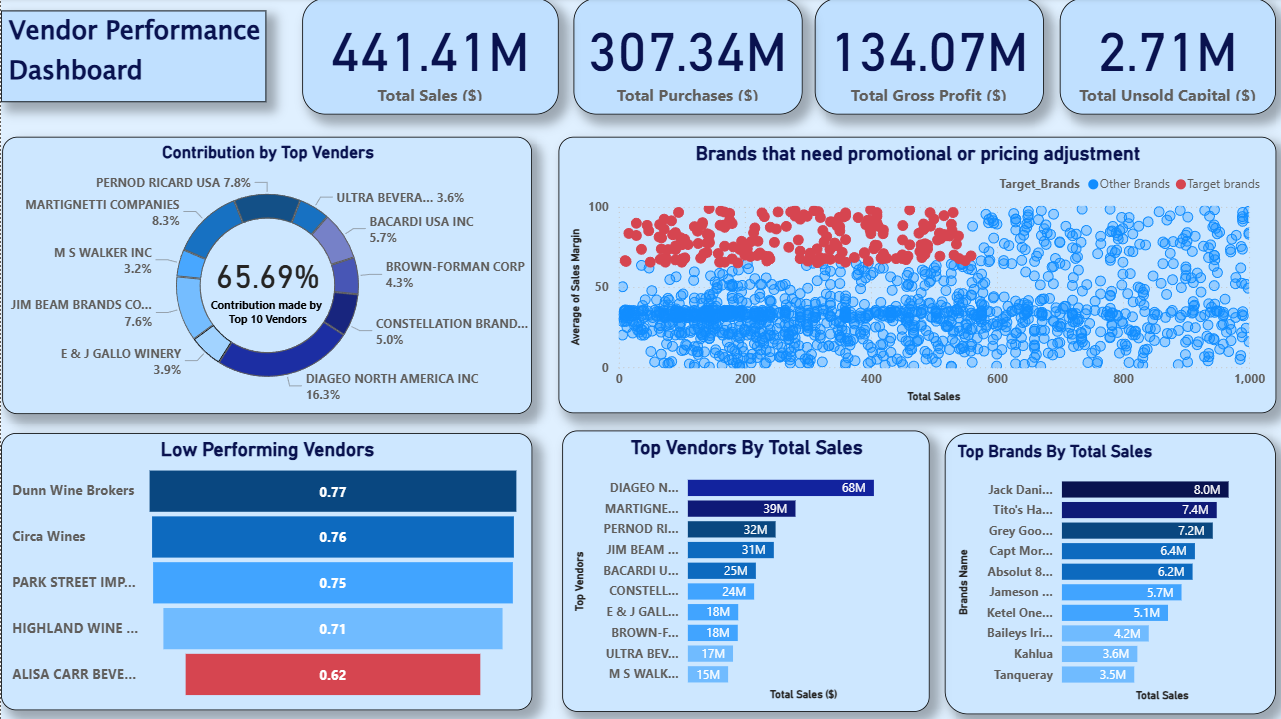

The dashboard page shown, as its layout file describes it:
{"tool":"powerbi","page":{"name":"Page 1","canvas":[1280,720],"ordinal":0},"visuals":[{"type":"scatterChart","title":"Brands that need promotional or pricing adjustment","fields":{"Y":["Sum(brandperformance.Average_Sales_Margin)"],"X":["Sum(brandperformance.Total_Sales)"],"Category":["brandperformance.description"],"Series":["brandperformance.target_brands"]},"box":[554.8,138.1,714,274.9],"z":0},{"type":"barChart","title":"Top Vendors By Total Sales","fields":{"Category":["top_vendros.vendor_name"],"Y":["Sum(top_vendros.Total_Sales_Dollars)"]},"box":[558.5,430.4,365.7,279.9],"z":1000},{"type":"barChart","title":"Top Brands By Total Sales","fields":{"Category":["top_products.description"],"Y":["Sum(top_products.Top_Brands)"]},"box":[939.2,432.9,329.6,279.9],"z":2000},{"type":"funnel","title":"Low Performing Vendors","fields":{"Y":["Sum(low_turnover.Average_Stock_Turnover)"],"Category":["low_turnover.vendor_name"]},"box":[0,432.9,528.7,276.2],"z":3000},{"type":"donutChart","title":"Contribution by  Top Venders","fields":{"Series":["contribution.vendor_name"],"Y":["Sum(contribution.contribution%)"]},"box":[1.2,138.1,527.4,276.2],"z":4000},{"type":"card","fields":{"Values":["Sum(vendor_summary.gross_profit)"]},"box":[809.8,0,227.6,115.7],"z":5000},{"type":"card","title":"Total Contribution by top ","fields":{"Values":["contribution.Top10_Contribution_Total"]},"box":[191.6,191.6,148,179.1],"z":6000},{"type":"card","fields":{"Values":["Sum(vendor_summary.total_purchase_dollars)"]},"box":[569.7,0,227.6,115.7],"z":7000},{"type":"card","fields":{"Values":["Sum(vendor_summary.total_sales_dollars)"]},"box":[299.8,0,255,115.7],"z":8000},{"type":"card","fields":{"Values":["Sum(vendor_summary.unsold_quantity_value)"]},"box":[1053.6,0,215.2,115.7],"z":9000},{"type":"textbox","title":"Vendor Performance Dashboard","box":[0,12.4,263.7,90.8],"z":9502}]}

Visuals, with their boxes in screenshot pixels (x1, y1, x2, y2), scaled from the page's 1280x720 canvas onto the 1281x719 screenshot:
"Brands that need promotional or pricing adjustment" scatterChart: 555/138/1270/412
"Top Vendors By Total Sales" barChart: 559/430/925/709
"Top Brands By Total Sales" barChart: 940/432/1270/712
"Low Performing Vendors" funnel: 0/432/529/708
"Contribution by  Top Venders" donutChart: 1/138/529/414
card - Sum(vendor_summary.gross_profit): 810/0/1038/116
"Total Contribution by top " card: 192/191/340/370
card - Sum(vendor_summary.total_purchase_dollars): 570/0/798/116
card - Sum(vendor_summary.total_sales_dollars): 300/0/555/116
card - Sum(vendor_summary.unsold_quantity_value): 1054/0/1270/116
"Vendor Performance Dashboard" textbox: 0/12/264/103
